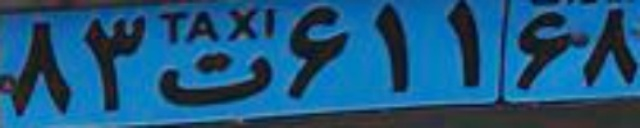1: (443, 0, 481, 86), (374, 3, 409, 93)
3: (83, 17, 143, 113)
6: (284, 3, 350, 99), (516, 11, 567, 90)
8: (8, 20, 76, 116), (581, 7, 637, 87)
te: (154, 51, 273, 106)
